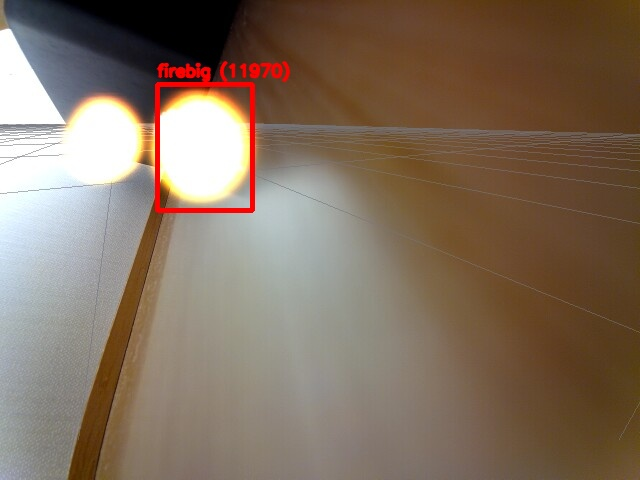firebig: (157, 84, 252, 210)
